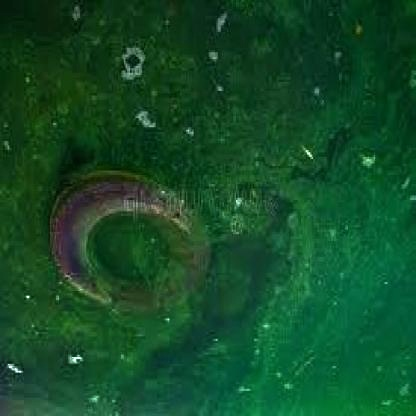tire: (46, 157, 228, 316)
